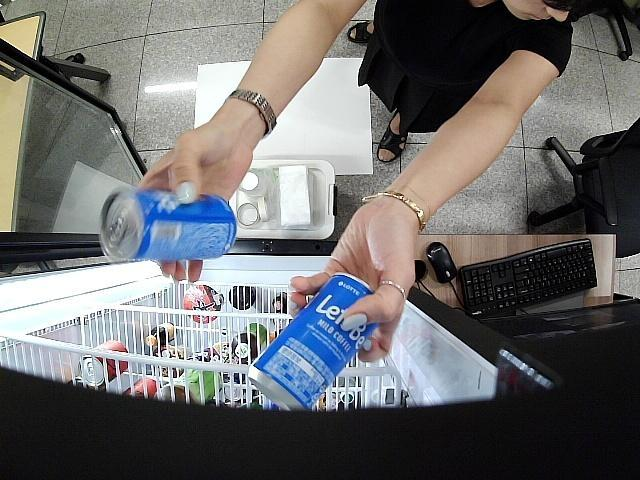15_letsbe: (250, 274, 374, 412), (100, 188, 237, 262)
